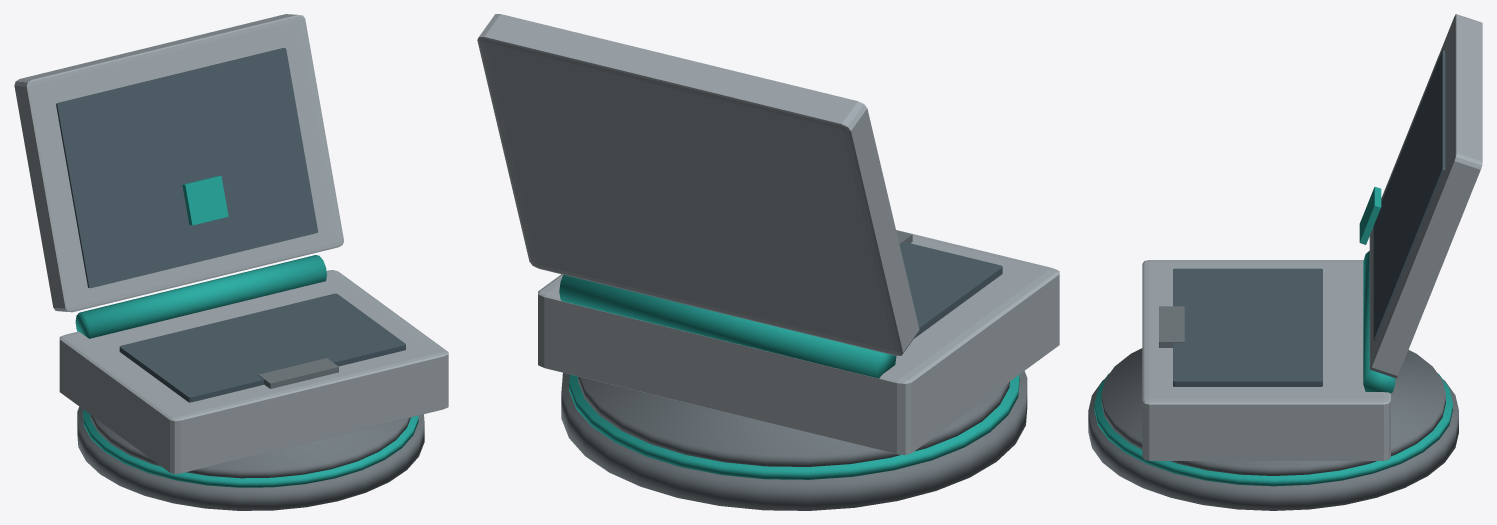
File: Laptop.glb
The picture shows the model from 3 angles, left to right: view 1: azimuth 30°, elevation 25°; view 2: azimuth 150°, elevation 25°; view 3: azimuth 270°, elevation 25°; orthographic projection. The views are drawn at different scales.
Parts seen in each view (by area): view 1: Laptop_screen_inset, Laptop_keyboard_slab, Laptop_screen_frame, Laptop_keyboard_field, Base_foot, Laptop_hinge, Base_top, Base_accent_ring, Laptop_screen_logo, Laptop_trackpad; view 2: Laptop_screen_frame, Laptop_keyboard_slab, Base_foot, Base_top, Laptop_hinge, Base_accent_ring, Laptop_keyboard_field; view 3: Laptop_keyboard_slab, Laptop_keyboard_field, Laptop_screen_frame, Base_foot, Laptop_screen_inset, Base_top, Base_accent_ring, Laptop_hinge, Laptop_trackpad, Laptop_screen_logo.
Part boxes in pixels (left/top/right/bottom): Laptop_screen_inset: left=56, top=48, right=317, bottom=288; Laptop_keyboard_slab: left=59, top=270, right=448, bottom=474; Laptop_screen_frame: left=14, top=14, right=343, bottom=312; Laptop_keyboard_field: left=119, top=293, right=405, bottom=402; Base_foot: left=77, top=407, right=424, bottom=510; Laptop_hinge: left=75, top=255, right=326, bottom=338; Base_top: left=90, top=415, right=410, bottom=478; Base_accent_ring: left=83, top=409, right=418, bottom=487; Laptop_screen_logo: left=182, top=176, right=228, bottom=225; Laptop_trackpad: left=258, top=358, right=338, bottom=388; Laptop_screen_frame: left=477, top=14, right=919, bottom=355; Laptop_keyboard_slab: left=538, top=230, right=1059, bottom=455; Base_foot: left=561, top=371, right=1027, bottom=510; Base_top: left=578, top=376, right=1009, bottom=466; Laptop_hinge: left=559, top=275, right=896, bottom=378; Base_accent_ring: left=569, top=374, right=1019, bottom=479; Laptop_keyboard_field: left=899, top=242, right=1002, bottom=338; Laptop_keyboard_slab: left=1142, top=260, right=1390, bottom=460; Laptop_keyboard_field: left=1173, top=268, right=1322, bottom=386; Laptop_screen_frame: left=1369, top=14, right=1482, bottom=378; Base_foot: left=1088, top=379, right=1458, bottom=510; Laptop_screen_inset: left=1373, top=50, right=1445, bottom=340; Base_top: left=1101, top=348, right=1445, bottom=475; Base_accent_ring: left=1094, top=373, right=1452, bottom=486; Laptop_hinge: left=1363, top=251, right=1395, bottom=393; Laptop_trackpad: left=1159, top=306, right=1184, bottom=347; Laptop_screen_logo: left=1359, top=187, right=1381, bottom=244.
Bounding box in the file's own units: 0.79 × 0.8199 × 0.8402.
